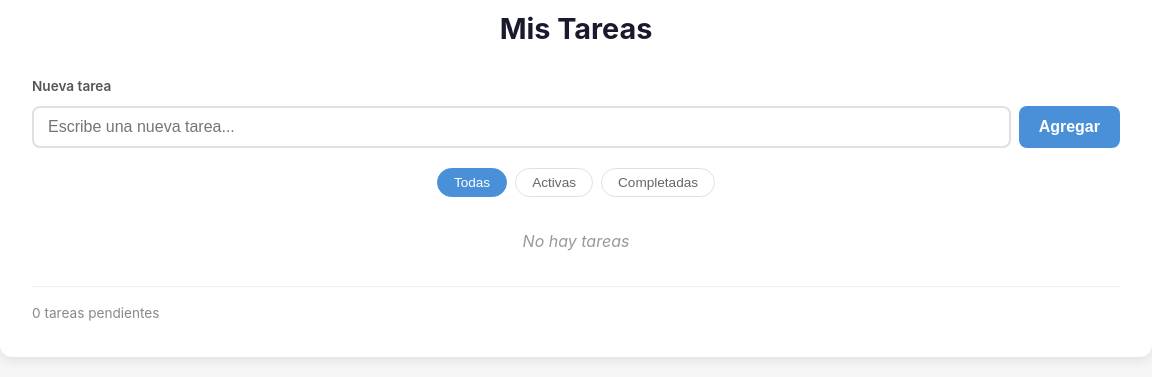
Test: TodoApp › Cuando el usuario agrega una nueva tarea › deberia mostrar la tarea en la lista y ocultar el mensaje de lista vacia
In the field labelled "Nueva tarea": (521, 127) [32, 106, 1011, 148], type "Comprar leche en el supermercado"
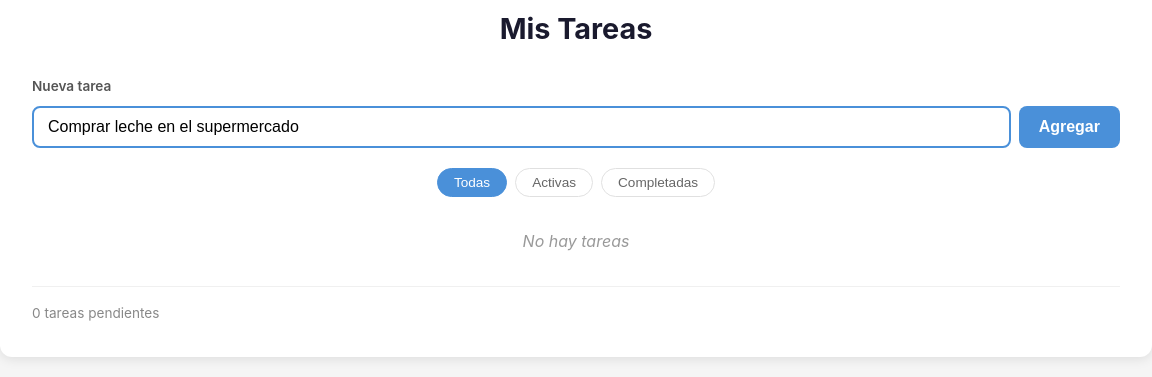
Click the button "Agregar": (1069, 127) [1019, 106, 1120, 148]
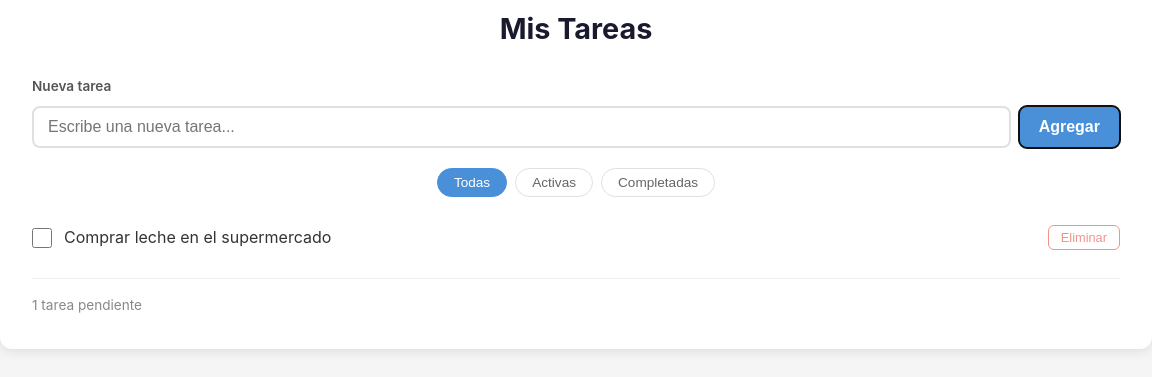
Now the text "Comprar leche en el supermercado" is shown, box [64, 225, 331, 250]
Now the text "No hay tareas" is gone
